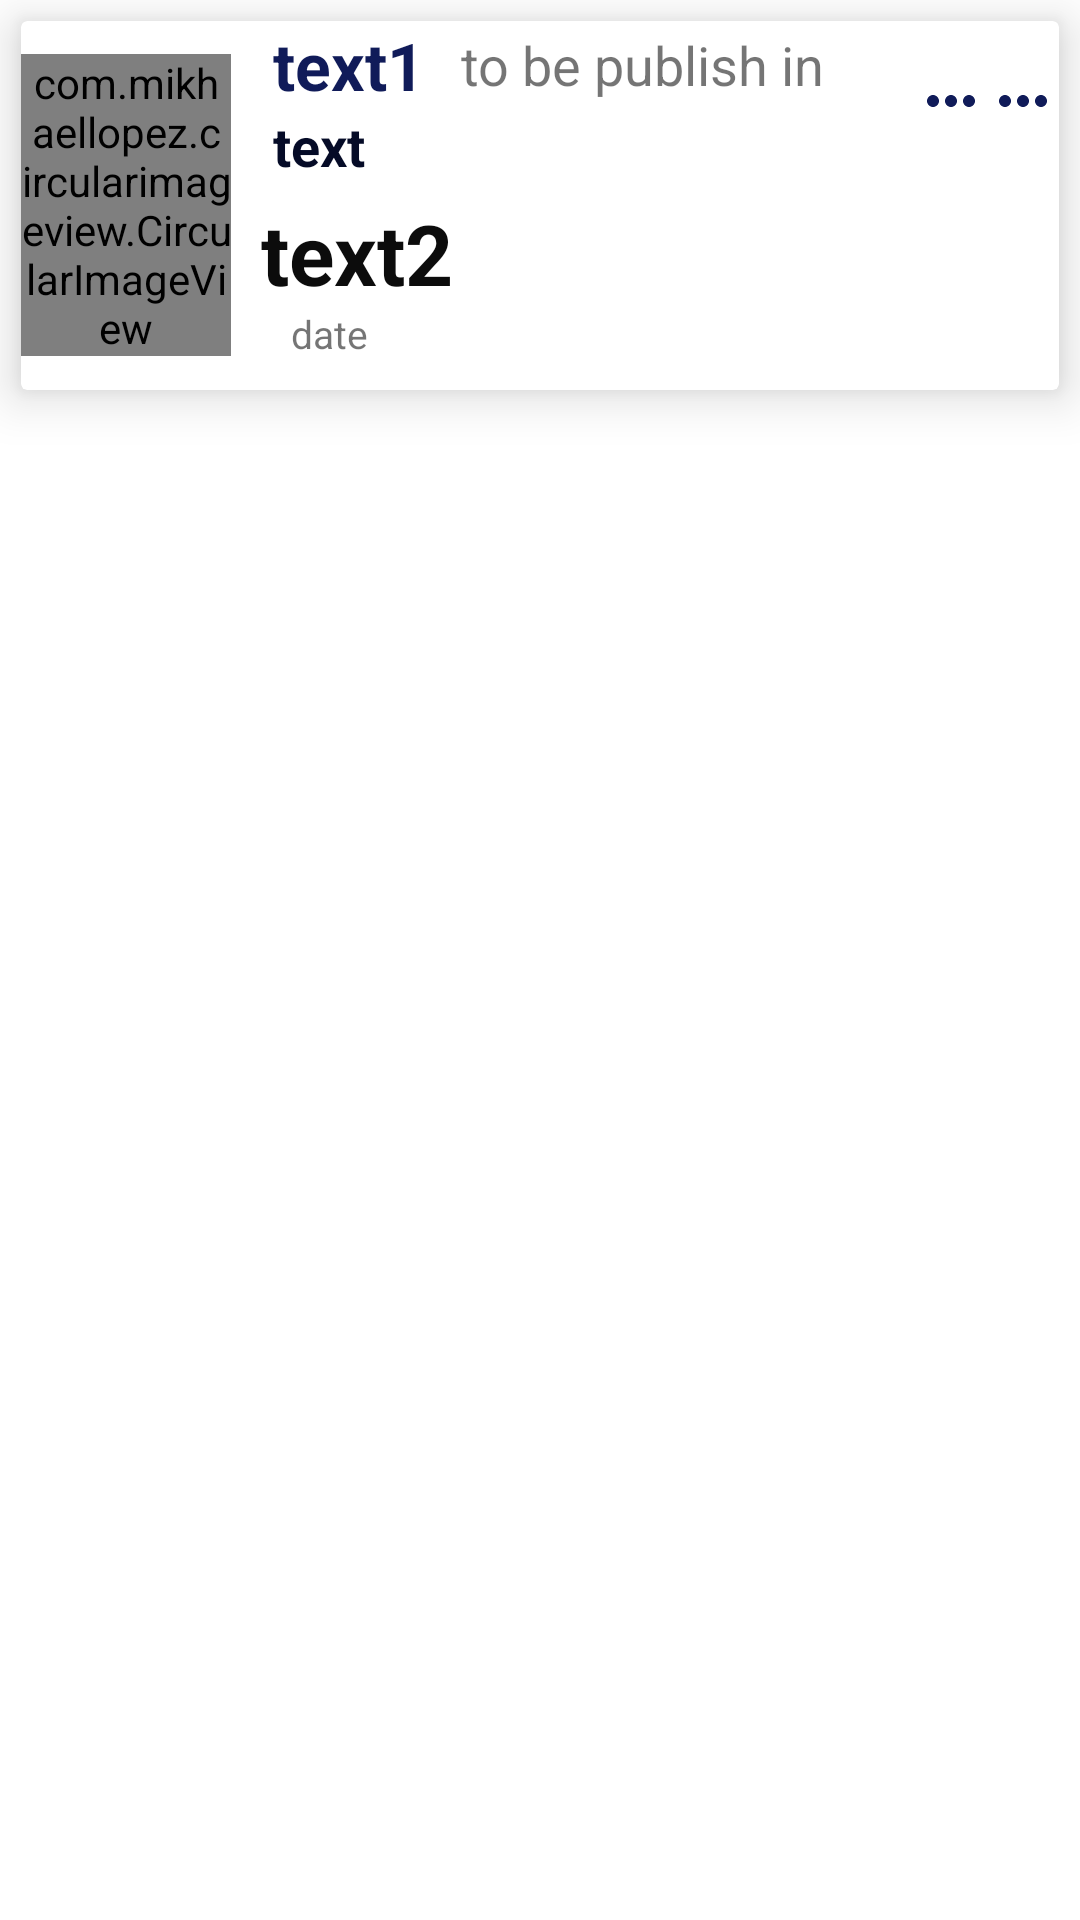

Icon click points for this 1080px x 1920px phone screenshot, format point (x, y):
more horiz: point (951, 101), point (1023, 101)
